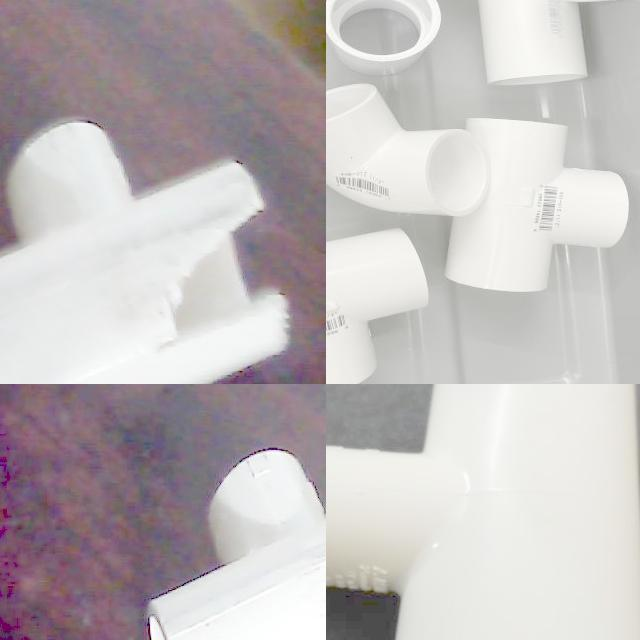Defective: (146, 191, 298, 367)
L Joint: (326, 84, 492, 220)
T Joint: (326, 384, 640, 640), (0, 122, 289, 384), (148, 451, 326, 640), (445, 119, 631, 293), (326, 228, 429, 384)
